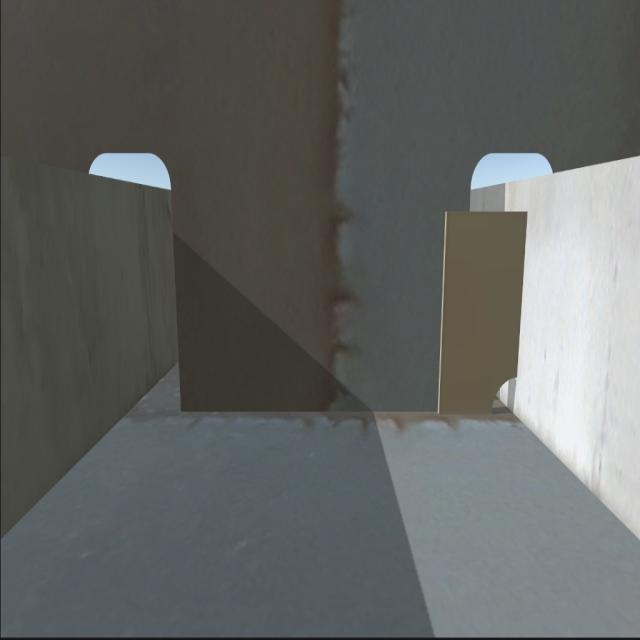fillet_hole: (485, 374, 523, 421)
fillet_yong_jeop_jang: (174, 404, 484, 422)
longi_yong_jeop_jang: (514, 206, 532, 384)
plate_CP01: (440, 202, 528, 412)
